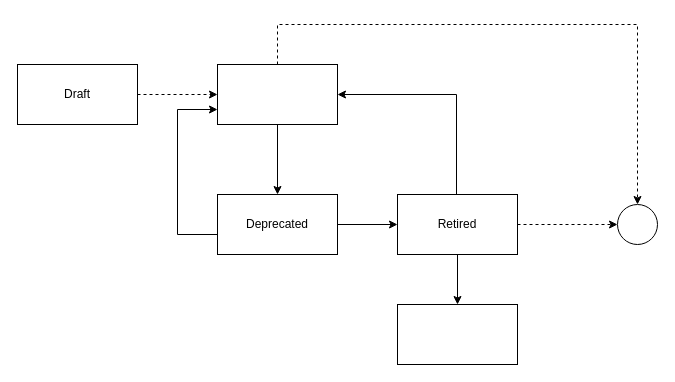
This 675x382 diagram has some shape labels left out. The centre of each missing label's shape, as x and y in pixels:
"Deleted" goes at point 457,334.
"Published" goes at point 277,94.
